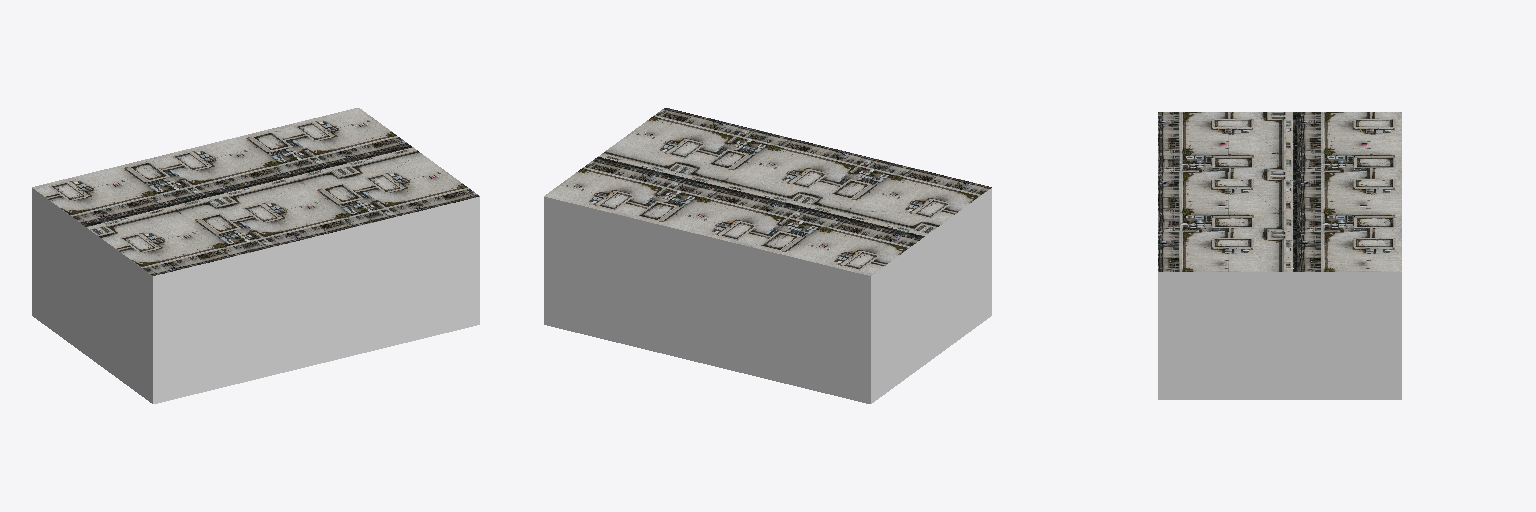
3 renders of one model, left to right at view 1: azimuth 30°, elevation 25°; view 2: azimuth 150°, elevation 25°; view 3: azimuth 270°, elevation 25°, orthographic.
Visible parts, largest first — view 1: Building_40.[number redacted]_25.[number redacted]; view 2: Building_40.[number redacted]_25.[number redacted]; view 3: Building_40.[number redacted]_25.[number redacted].
Part boxes in pixels (left/top/right/bottom): Building_40.[number redacted]_25.[number redacted]: left=32, top=108, right=479, bottom=403; Building_40.[number redacted]_25.[number redacted]: left=544, top=108, right=991, bottom=403; Building_40.[number redacted]_25.[number redacted]: left=1158, top=112, right=1401, bottom=399.
Bounding box in the file's own units: 40.03 × 15 × 25.77.
Materials: 2 (1 with a texture image).